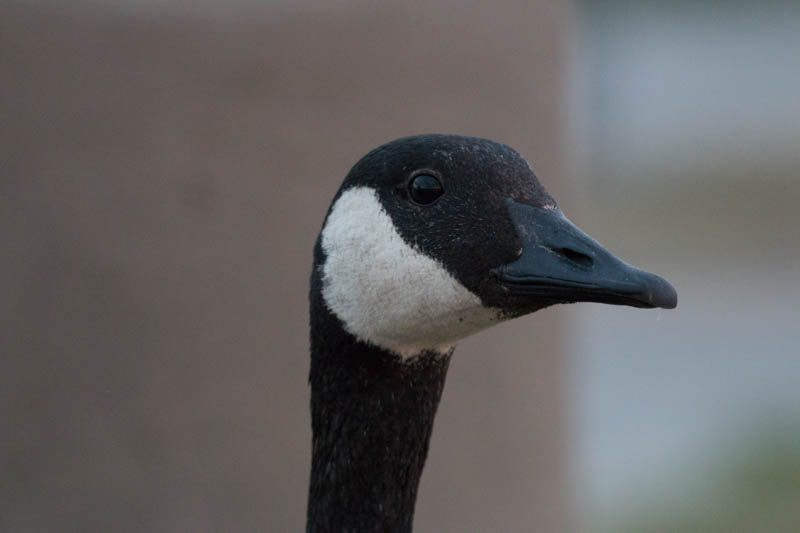goose-head: (310, 134, 679, 363)
